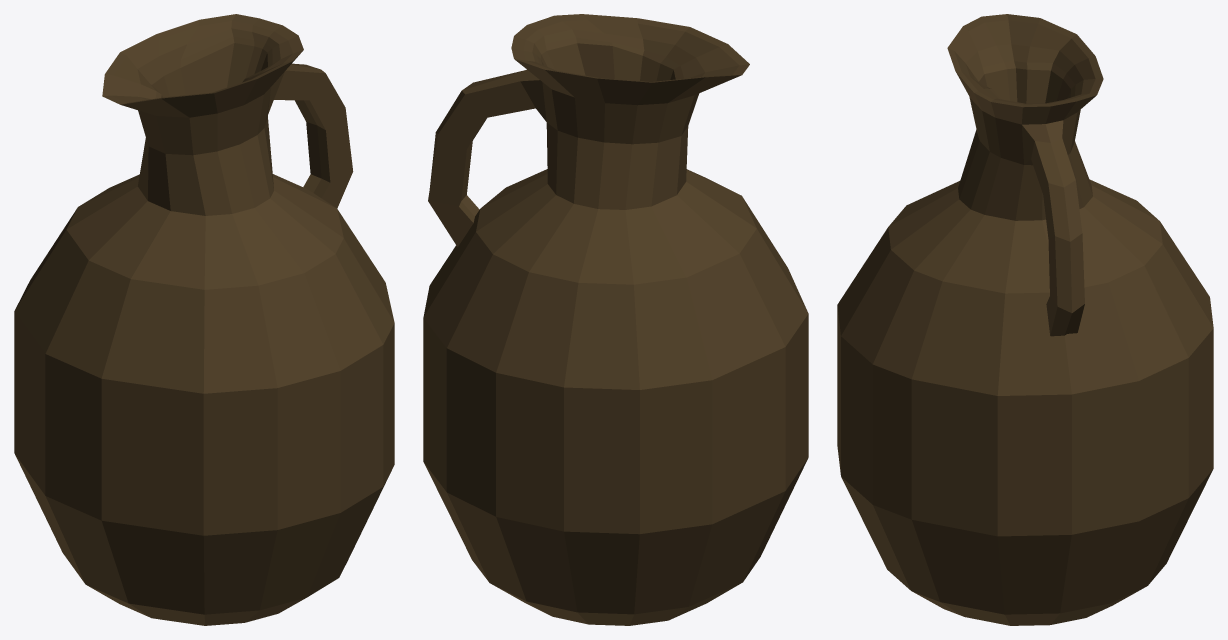
The model's file is Jug.fbx.
The picture shows the model from 3 angles, left to right: view 1: azimuth 30°, elevation 25°; view 2: azimuth 150°, elevation 25°; view 3: azimuth 270°, elevation 25°; orthographic projection. The views are drawn at different scales.
Parts seen in each view (by area): view 1: Jug; view 2: Jug; view 3: Jug.
Boxes of the visible parts, x1,y1,x2,y2 form: Jug: [14, 14, 394, 625]; Jug: [423, 14, 808, 625]; Jug: [837, 14, 1213, 625].
Size of the model in its own units: 46.92 by 71.82 by 47.12.
